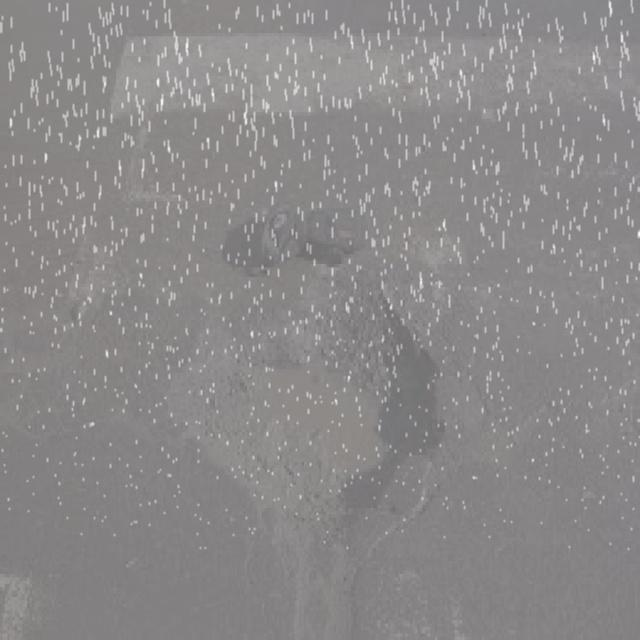Pothole: (165, 276, 451, 541)
